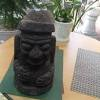Stone Statue: (7, 6, 61, 99)
